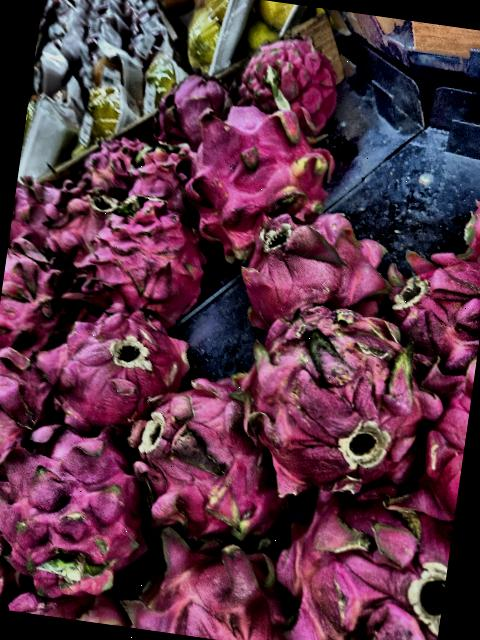buah-naga-matang: (230, 296, 446, 499), (270, 473, 457, 640), (0, 424, 160, 598), (130, 382, 292, 546), (178, 99, 338, 243), (34, 301, 192, 428), (115, 533, 295, 640), (237, 205, 390, 326), (84, 196, 204, 320), (376, 238, 480, 376), (232, 28, 350, 136), (0, 236, 79, 349), (0, 340, 56, 479), (148, 65, 234, 151), (77, 132, 153, 196), (124, 147, 192, 209)
